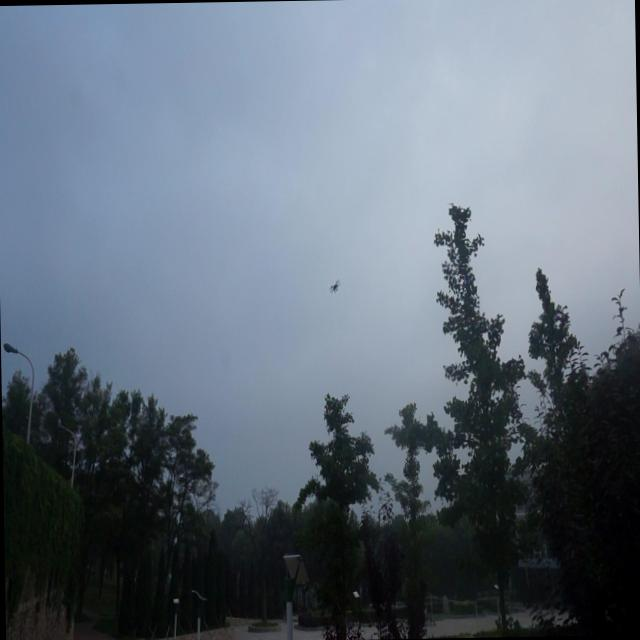drone: (327, 276, 343, 298)
